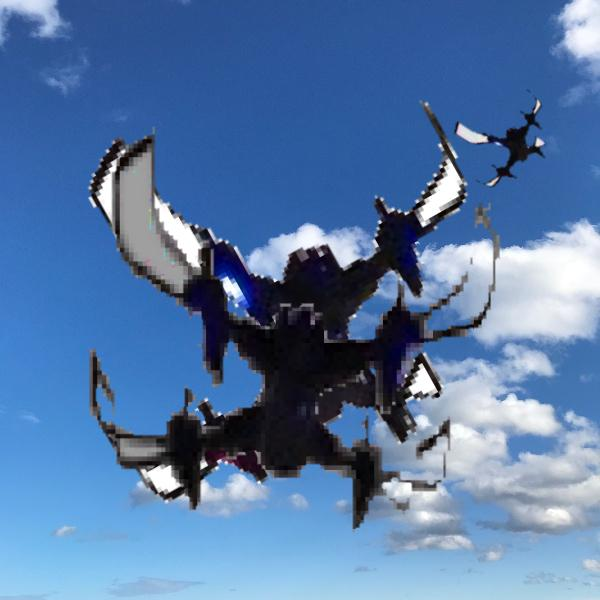drone: (36, 32, 510, 506), (71, 108, 525, 562), (449, 80, 559, 190)
